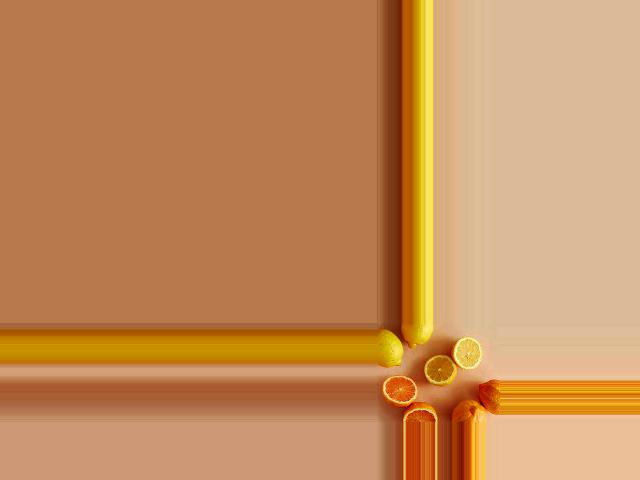lemon: (473, 377, 500, 417)
